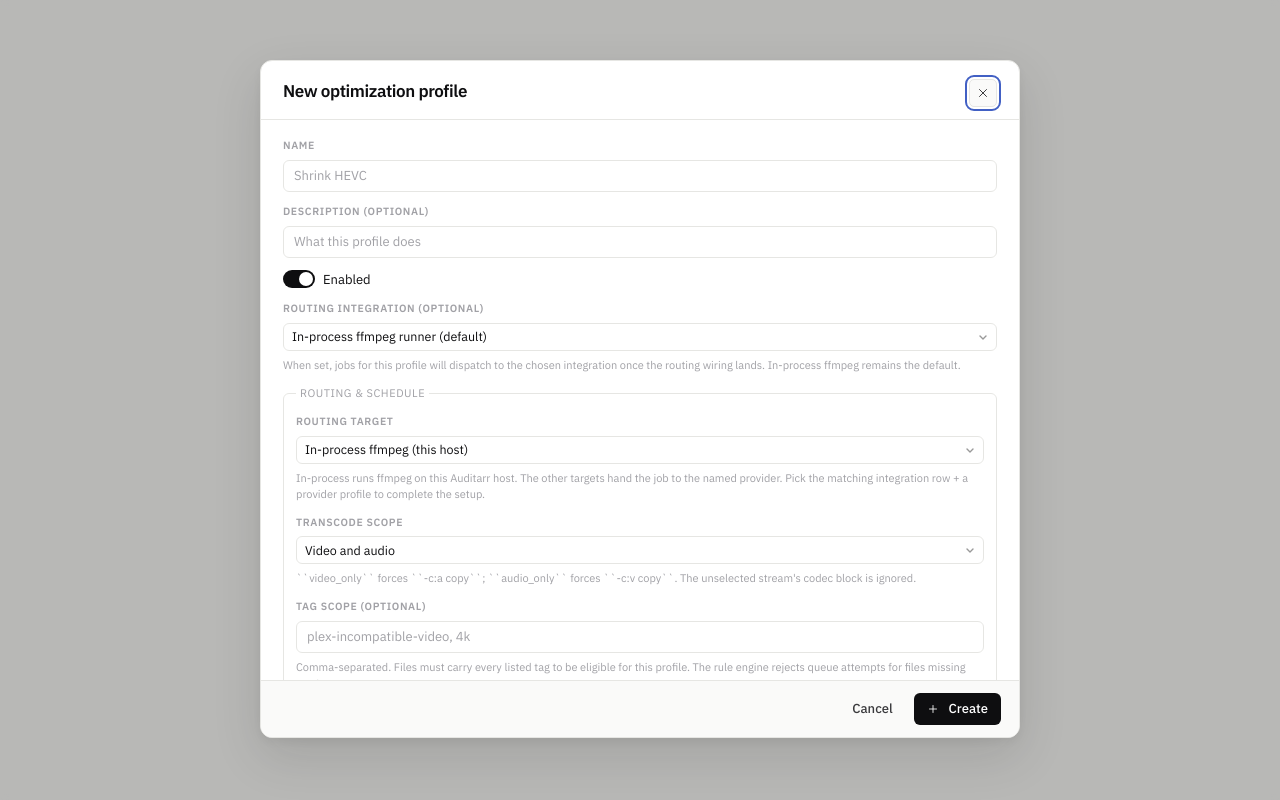
Test: Stage 07 — routing_target round-trip › re-exposes the in-process-only knobs after returning to in_process
Select "Plex transcoder" in the dropdown with test id "routing-target-select" at coordinates (640, 450), box [296, 436, 984, 464]
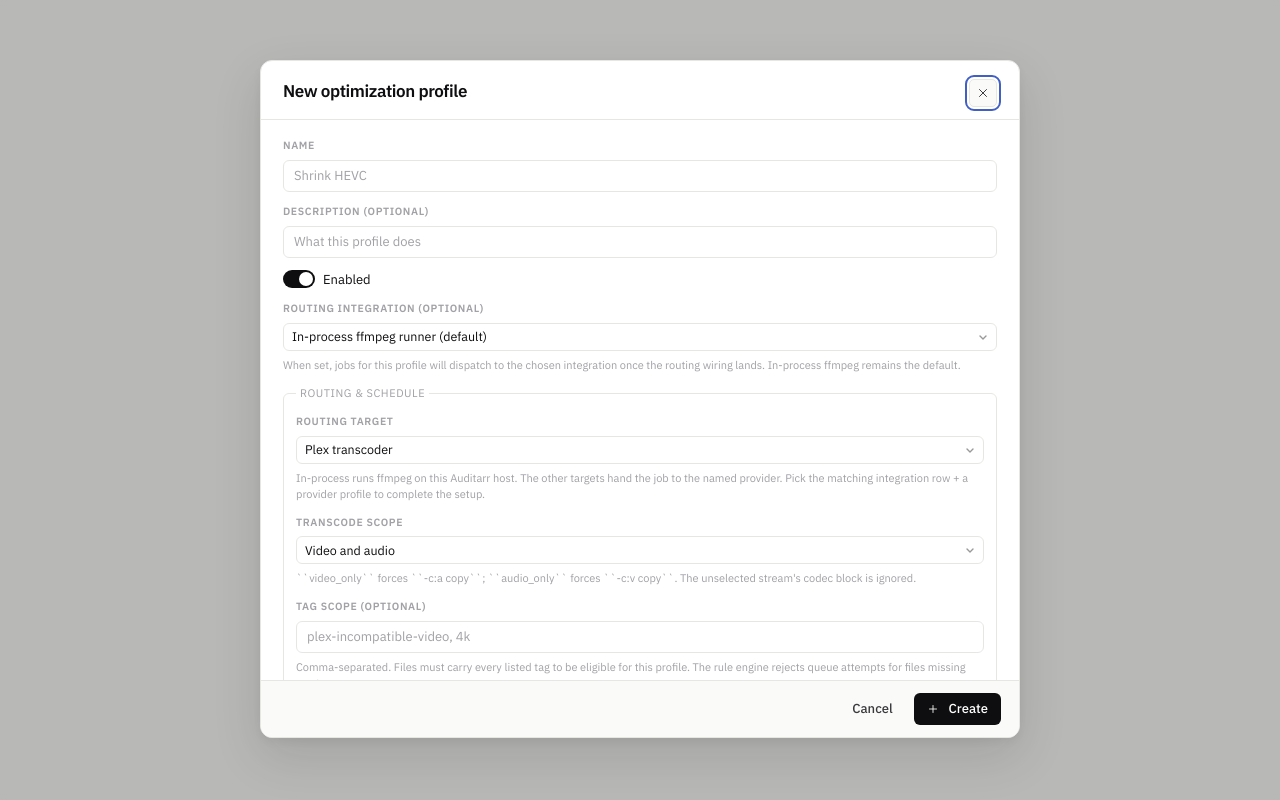
Select "In-process ffmpeg (this host)" in the dropdown with test id "routing-target-select" at coordinates (640, 450), box [296, 436, 984, 464]
(page scrolled)
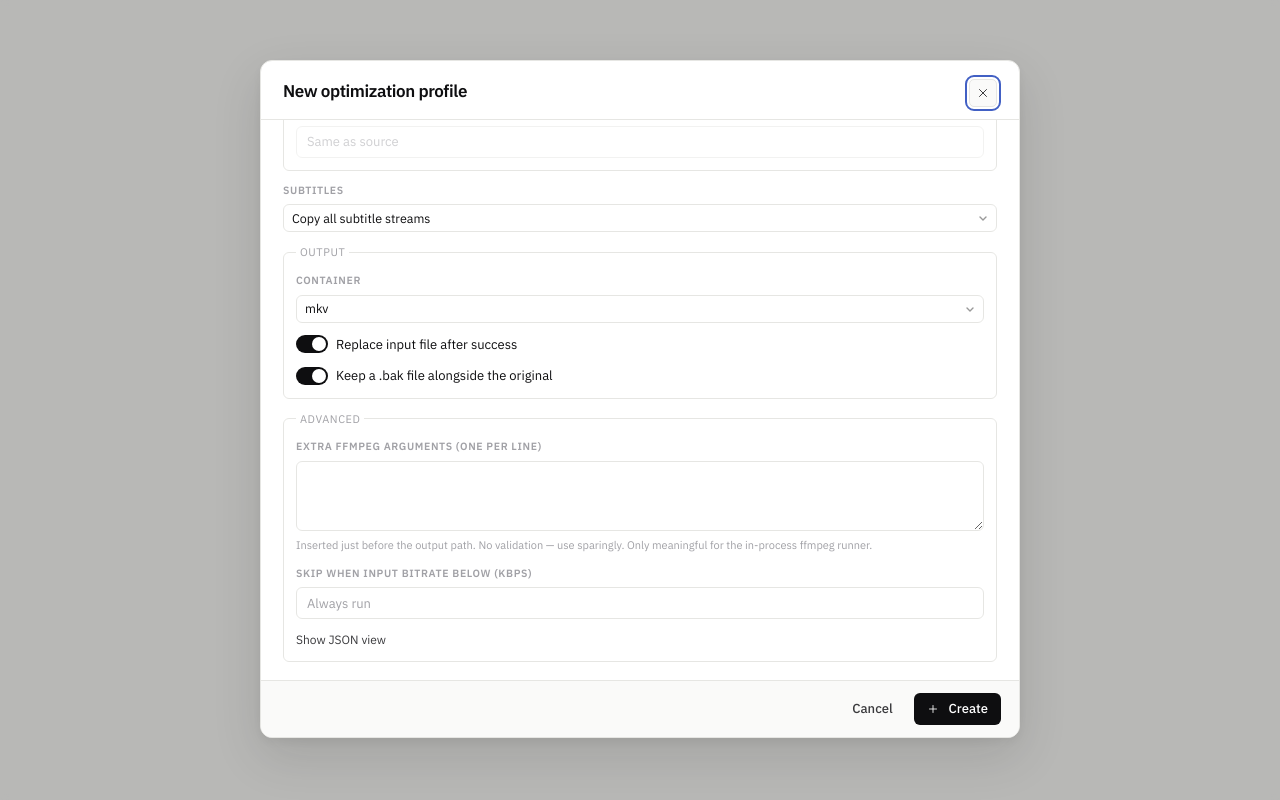
Now the text box labelled "Extra ffmpeg arguments" is shown, box [296, 461, 984, 531]
